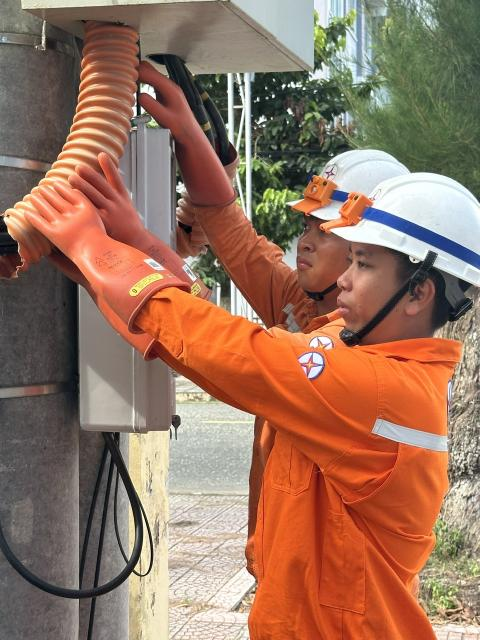gloves: (19, 176, 199, 324), (65, 148, 225, 305), (131, 47, 248, 223), (35, 226, 169, 373)
helmet: (336, 159, 480, 295), (288, 138, 427, 223)
